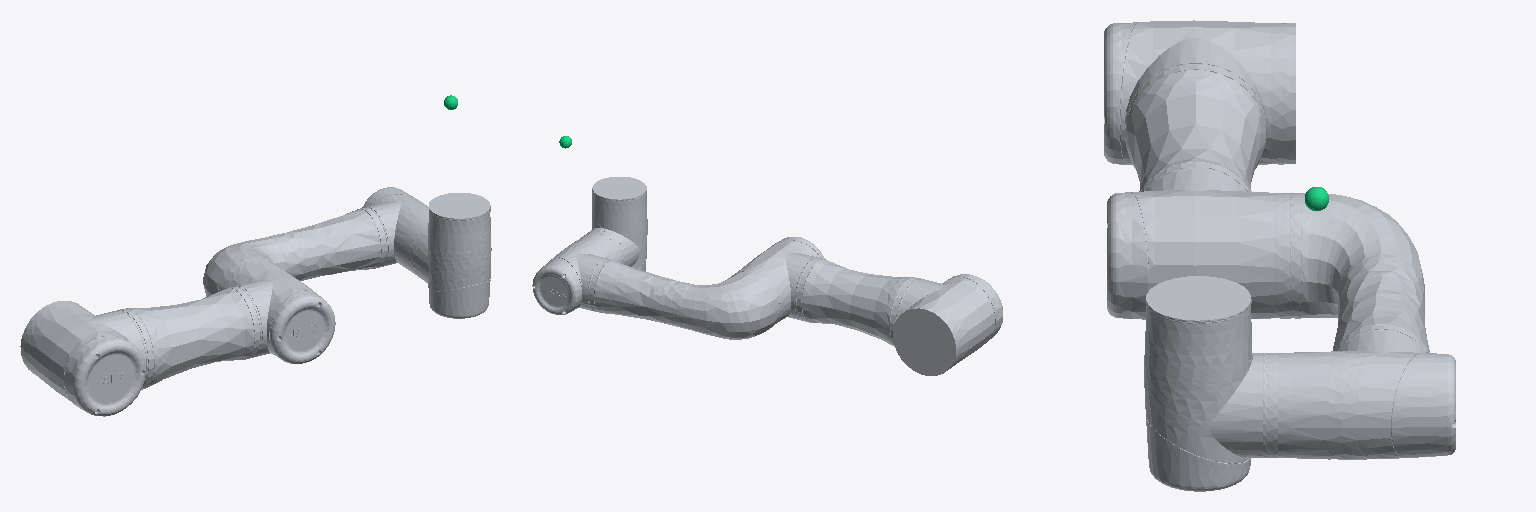
The robot description file, URDF, robot "jaka_zu3_real":
<?xml version="1.0" encoding="utf-8"?>
<robot name="jaka_zu3_real">
  <!-- JAKA zu3 — 真机 CAD（厂商官网 STEP，build_vendor_urdf.py 生成，coord=y_up_mm）。几何为真实外形，运动学（轴/限位）复用程序化 URDF。 -->
  <link name="base_link">
    <visual>
      <origin xyz="0 0 0" rpy="0 0 0"/>
      <geometry><mesh filename="meshes_real/base_link.stl"/></geometry>
      <material name="base_link_m"><color rgba="0.80 0.82 0.85 1"/></material>
    </visual>
    <collision>
      <origin xyz="0 0 0" rpy="0 0 0"/>
      <geometry><mesh filename="meshes_real/base_link.stl"/></geometry>
    </collision>
  </link>
  <link name="link_1">
    <visual>
      <origin xyz="0 0 0" rpy="0 0 0"/>
      <geometry><mesh filename="meshes_real/link_1.stl"/></geometry>
      <material name="link_1_m"><color rgba="0.80 0.82 0.85 1"/></material>
    </visual>
    <collision>
      <origin xyz="0 0 0" rpy="0 0 0"/>
      <geometry><mesh filename="meshes_real/link_1.stl"/></geometry>
    </collision>
  </link>
  <link name="link_2">
    <visual>
      <origin xyz="0 0 0" rpy="0 0 0"/>
      <geometry><mesh filename="meshes_real/link_2.stl"/></geometry>
      <material name="link_2_m"><color rgba="0.80 0.82 0.85 1"/></material>
    </visual>
    <collision>
      <origin xyz="0 0 0" rpy="0 0 0"/>
      <geometry><mesh filename="meshes_real/link_2.stl"/></geometry>
    </collision>
  </link>
  <link name="link_3">
    <visual>
      <origin xyz="0 0 0" rpy="0 0 0"/>
      <geometry><mesh filename="meshes_real/link_3.stl"/></geometry>
      <material name="link_3_m"><color rgba="0.80 0.82 0.85 1"/></material>
    </visual>
    <collision>
      <origin xyz="0 0 0" rpy="0 0 0"/>
      <geometry><mesh filename="meshes_real/link_3.stl"/></geometry>
    </collision>
  </link>
  <link name="link_4">
    <visual>
      <origin xyz="0 0 0" rpy="0 0 0"/>
      <geometry><mesh filename="meshes_real/link_4.stl"/></geometry>
      <material name="link_4_m"><color rgba="0.80 0.82 0.85 1"/></material>
    </visual>
    <collision>
      <origin xyz="0 0 0" rpy="0 0 0"/>
      <geometry><mesh filename="meshes_real/link_4.stl"/></geometry>
    </collision>
  </link>
  <link name="link_5">
    <visual>
      <origin xyz="0 0 0" rpy="0 0 0"/>
      <geometry><mesh filename="meshes_real/link_5.stl"/></geometry>
      <material name="link_5_m"><color rgba="0.80 0.82 0.85 1"/></material>
    </visual>
    <collision>
      <origin xyz="0 0 0" rpy="0 0 0"/>
      <geometry><mesh filename="meshes_real/link_5.stl"/></geometry>
    </collision>
  </link>
  <link name="tool0">
    <visual>
      <origin xyz="0 0 0" rpy="0 0 0"/>
      <geometry><mesh filename="meshes_real/tool0.stl"/></geometry>
      <material name="tool0_m"><color rgba="0.80 0.82 0.85 1"/></material>
    </visual>
    <collision>
      <origin xyz="0 0 0" rpy="0 0 0"/>
      <geometry><mesh filename="meshes_real/tool0.stl"/></geometry>
    </collision>
  </link>
  <link name="tcp">
    <visual>
      <origin xyz="0 0 0" rpy="0 0 0"/>
      <geometry><sphere radius="0.008"/></geometry>
      <material name="tcp_m"><color rgba="0.15 0.85 0.55 1"/></material>
    </visual>
  </link>
  <joint name="joint_1" type="revolute">
    <parent link="base_link"/>
    <child link="link_1"/>
    <origin xyz="0.0449633 0.00696811 -0.08605" rpy="0 0 0"/>
    <axis xyz="0 0 1"/>
    <limit lower="-6.28318" upper="6.28318" effort="58" velocity="3.14159"/>
  </joint>
  <joint name="joint_2" type="revolute">
    <parent link="link_1"/>
    <child link="link_2"/>
    <origin xyz="-0.0409685 -0.0574681 -0.109824" rpy="0 0 0"/>
    <axis xyz="0 1 0"/>
    <limit lower="-1.48353" upper="4.62512" effort="58" velocity="3.14159"/>
  </joint>
  <joint name="joint_3" type="revolute">
    <parent link="link_2"/>
    <child link="link_3"/>
    <origin xyz="0.201505 0.0035 0.0453243" rpy="0 0 0"/>
    <axis xyz="0 1 0"/>
    <limit lower="-3.05433" upper="3.05433" effort="58" velocity="3.14159"/>
  </joint>
  <joint name="joint_4" type="revolute">
    <parent link="link_3"/>
    <child link="link_4"/>
    <origin xyz="0.2345 -0.0245 -1.50545e-09" rpy="0 0 0"/>
    <axis xyz="0 0 1"/>
    <limit lower="-1.48353" upper="4.62512" effort="58" velocity="3.83972"/>
  </joint>
  <joint name="joint_5" type="revolute">
    <parent link="link_4"/>
    <child link="link_5"/>
    <origin xyz="0.0570275 -0.0665147 0.076" rpy="0 0 0"/>
    <axis xyz="0 1 0"/>
    <limit lower="-6.28318" upper="6.28318" effort="58" velocity="3.83972"/>
  </joint>
  <joint name="joint_6" type="revolute">
    <parent link="link_5"/>
    <child link="tool0"/>
    <origin xyz="0.0102614 0.101015 0.0484175" rpy="0 0 0"/>
    <axis xyz="0 0 1"/>
    <limit lower="-6.28318" upper="6.28318" effort="58" velocity="3.83972"/>
  </joint>
  <joint name="tcp_joint" type="fixed">
    <parent link="tool0"/>
    <child link="tcp"/>
    <origin xyz="0 0 0.03756" rpy="0 0 0"/>
  </joint>
</robot>

--- What the picture shows (computed from the rendered views, not written in the file) ---
The picture shows the robot from 3 angles, left to right: view 1: azimuth 30°, elevation 25°; view 2: azimuth 150°, elevation 25°; view 3: azimuth 270°, elevation 25°; orthographic projection.
Robot: jaka_zu3_real — 8 links, 7 joints (6 revolute, 1 fixed); root link base_link; default pose: all joints at 0.
Visible links, largest first — view 1: link_2, link_3, link_4; view 2: link_2, link_3, link_4; view 3: link_2, link_3, link_4.
Link boxes in pixels (<box>): link_2: <box>20,256,335,416</box>; link_3: <box>203,187,428,296</box>; link_4: <box>414,193,491,318</box>; link_2: <box>735,237,1002,375</box>; link_3: <box>532,230,779,339</box>; link_4: <box>588,177,647,271</box>; link_2: <box>1104,20,1300,319</box>; link_3: <box>1263,193,1455,459</box>; link_4: <box>1144,276,1262,491</box>.
Size in the robot's own frame: 0.5624 by 0.2266 by 0.218 metres.
Meshes: 7 distinct files referenced, 3 mesh visuals loaded (3 binary STL); not drawn: 4 (reference not matched to a file when rendering).
